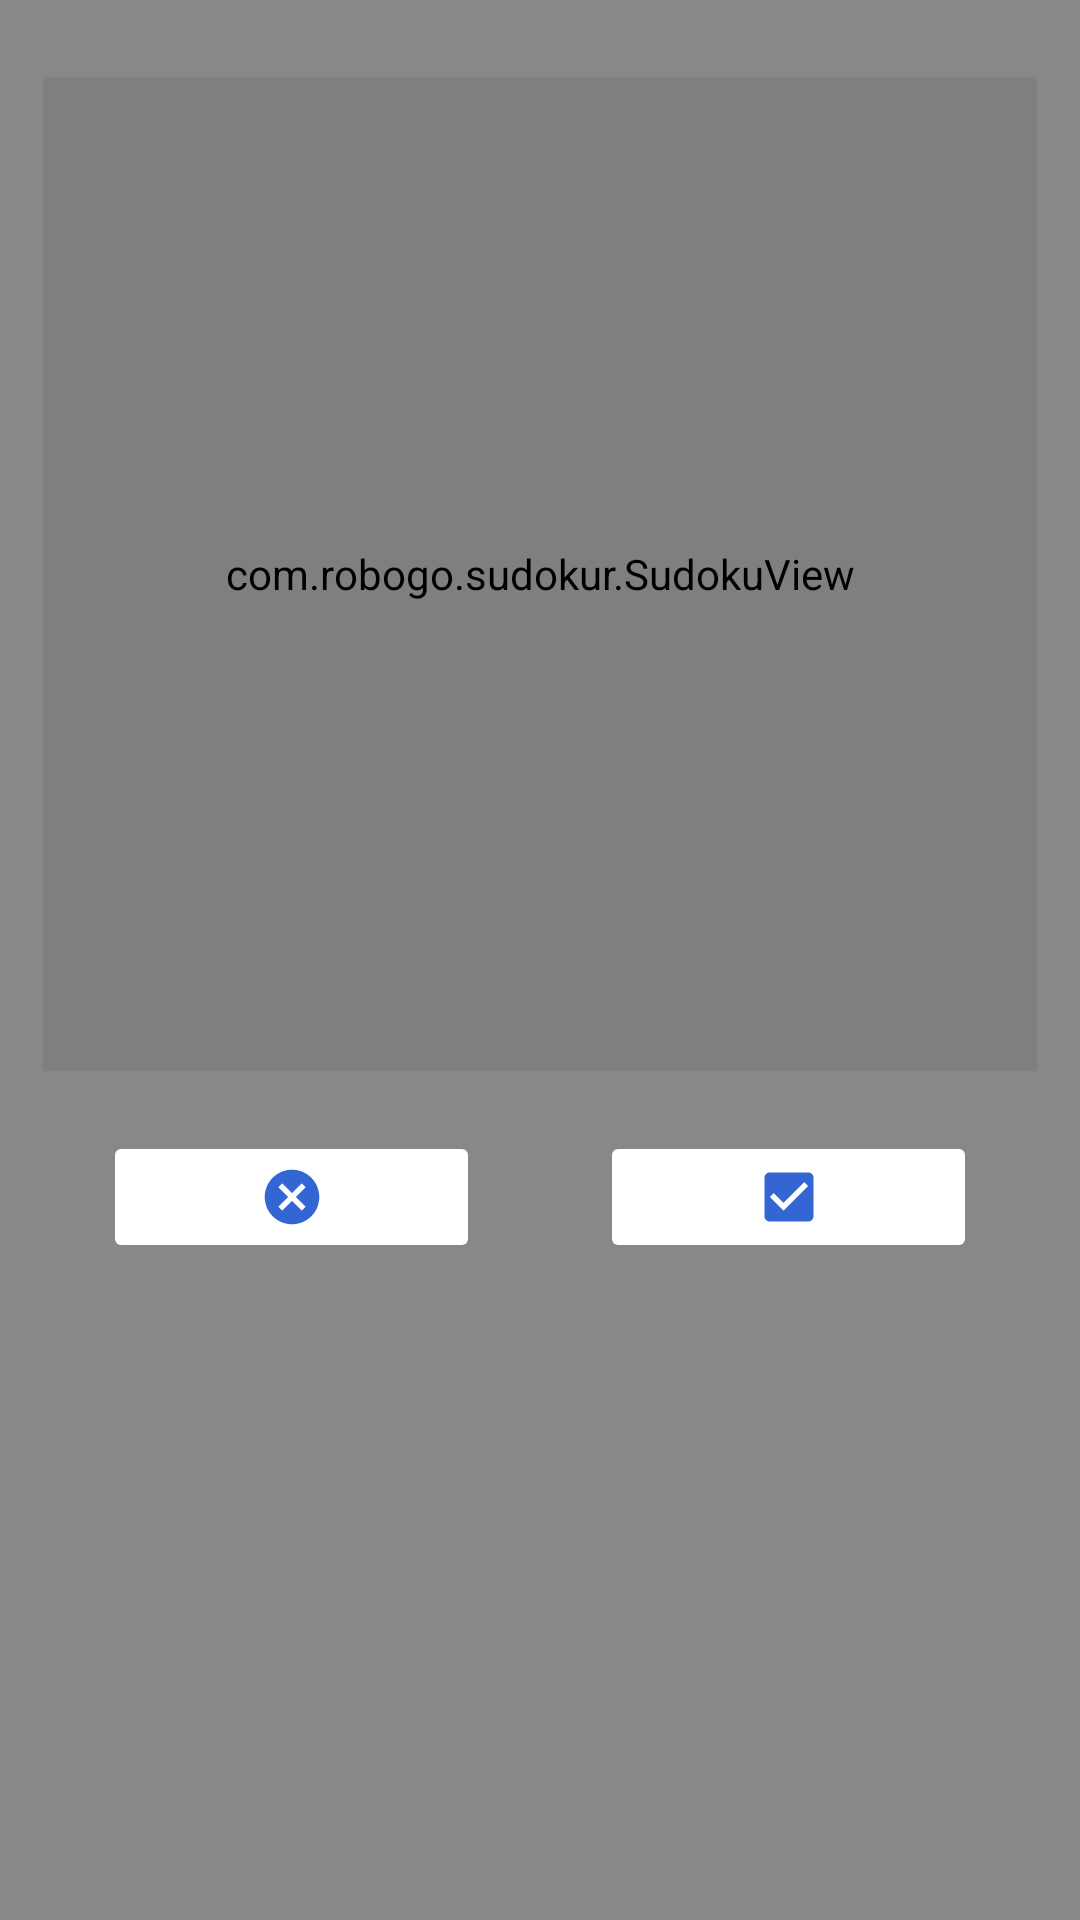

Screen size 1080*1920. Icon name, then its center in pixels as (x=x, y=y):
cancel: (x=291, y=1197)
